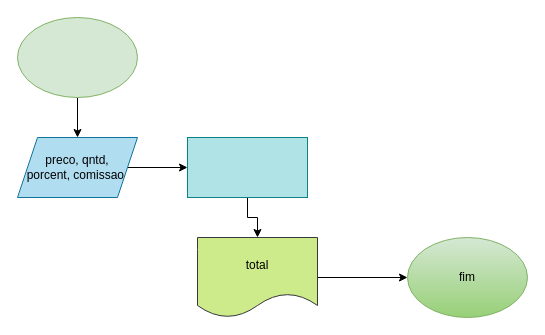
Some shapes in this 545 by 335 pixel diagram are drawn without their labels. The shapes that lost their labels are listed below. From the top down, each one's box as (x1, y1, x2, y2) in pixels, then its label:
(16, 16, 138, 98): inicio
(186, 136, 308, 198): total (preco+qntd)*porcent
